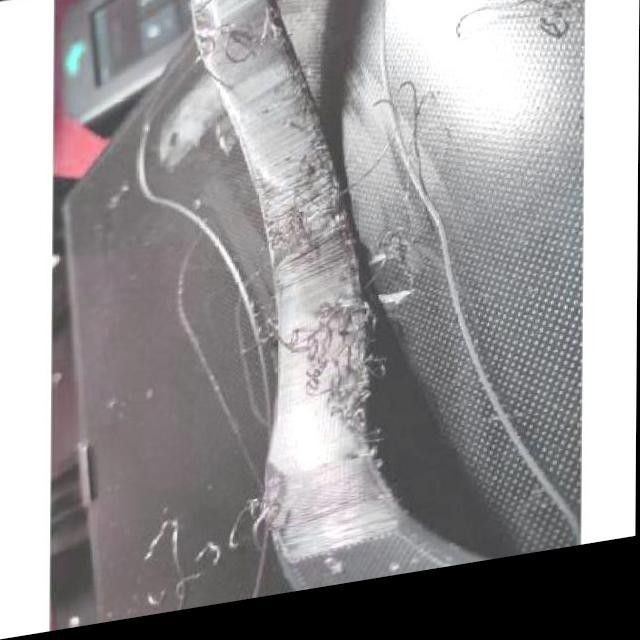spaghetti: (273, 300, 390, 480), (275, 154, 350, 292), (188, 9, 285, 84), (356, 238, 415, 312), (222, 499, 282, 564), (240, 306, 285, 368), (291, 72, 316, 133)
